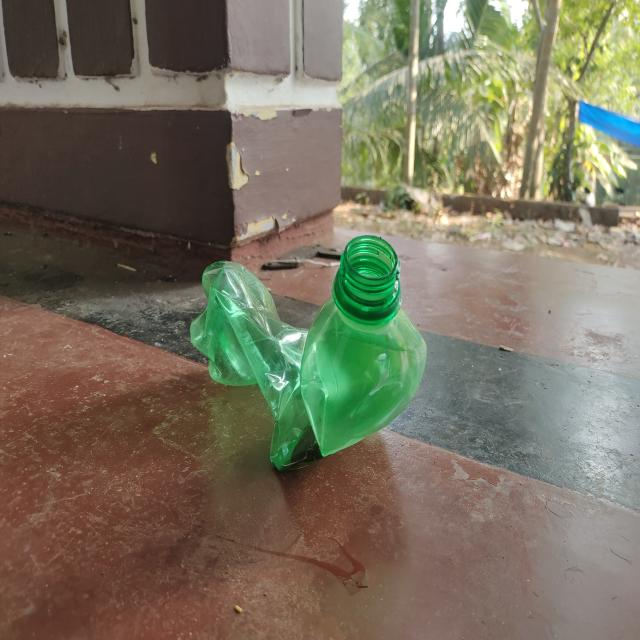plastic: (189, 233, 430, 473)
